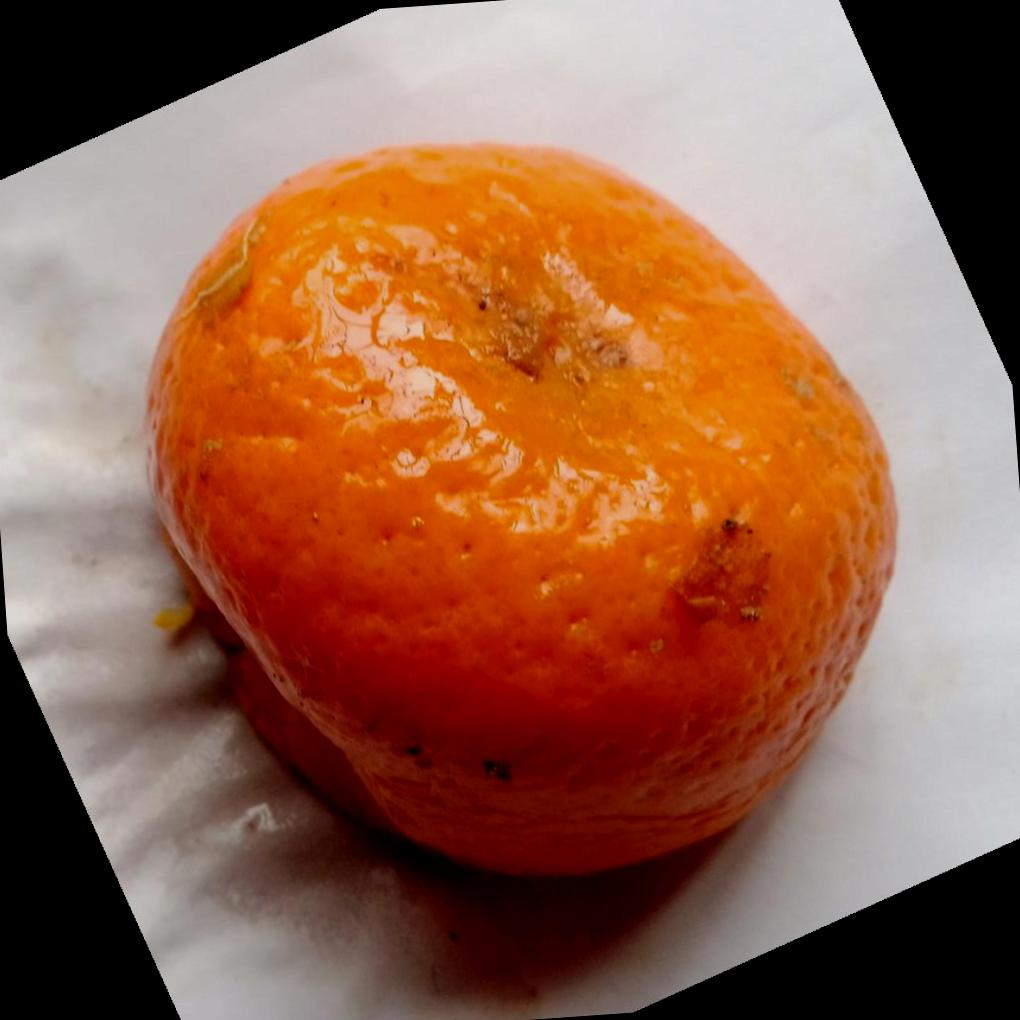FreshOrange: (145, 140, 902, 881)
